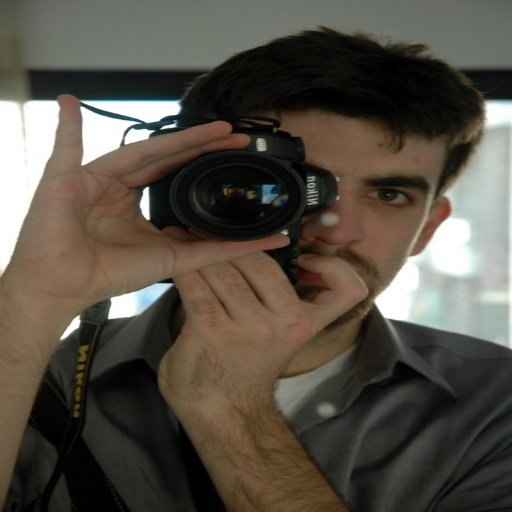hand: (0, 91, 291, 305), (150, 248, 374, 409)
